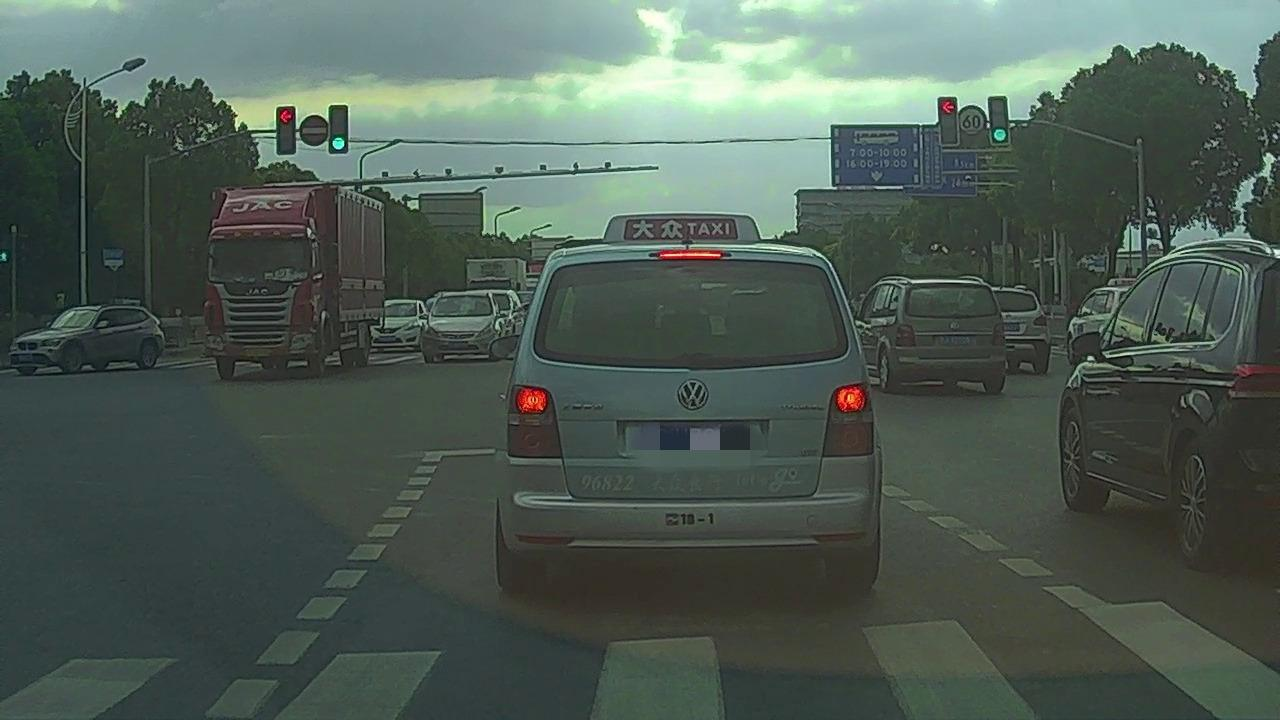traffic_light: (987, 96, 1008, 144), (275, 106, 295, 155), (327, 105, 347, 154), (937, 97, 956, 144)
